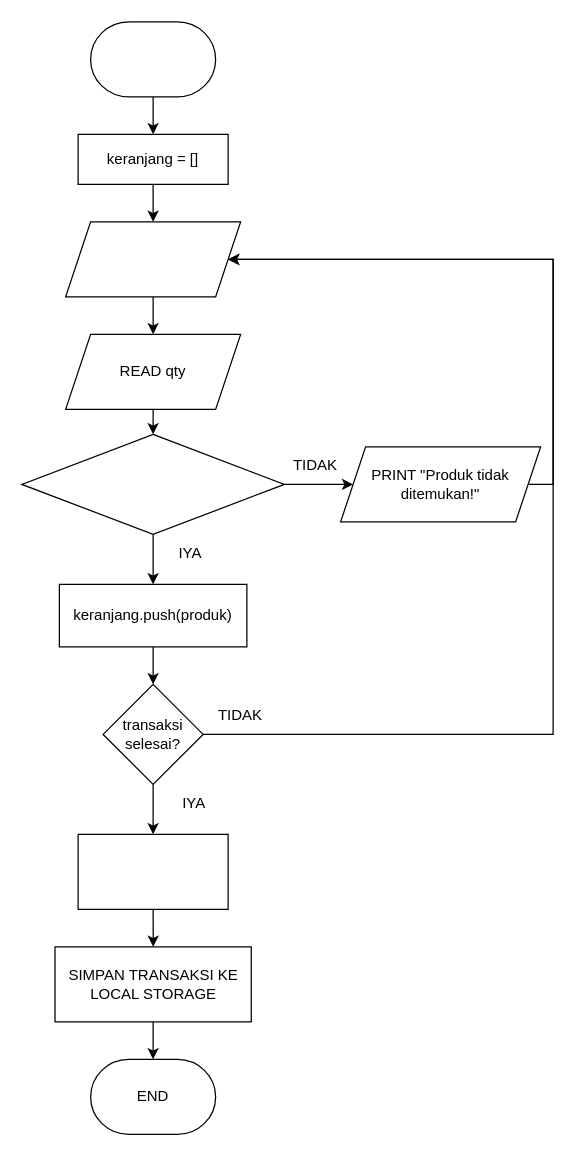
Some shapes in this 585 by 1156 pixel diagram are drawn without their labels. Each missing label, with the centre of its shape:
kode_produk ditemukan di local storage produk?: point 152,483
READ kode_produk: point 152,259
START: point 152,59
SUM TOTAL HARGA: point 152,871
